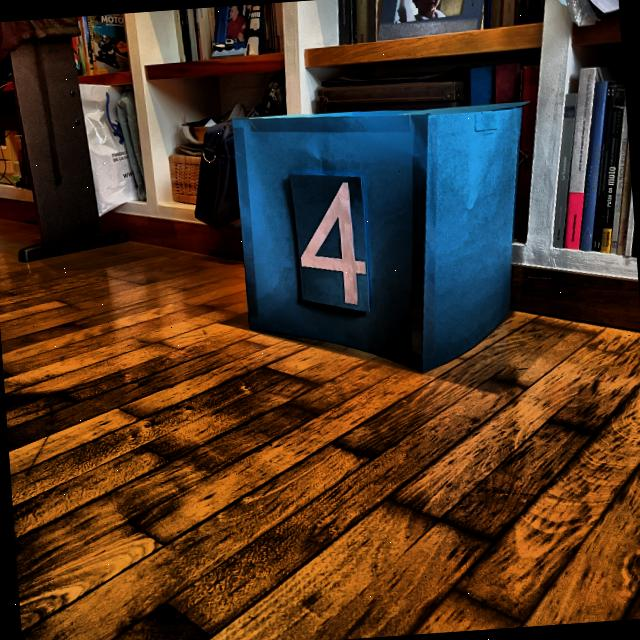blue box: (226, 95, 534, 386)
four: (292, 176, 370, 310)
